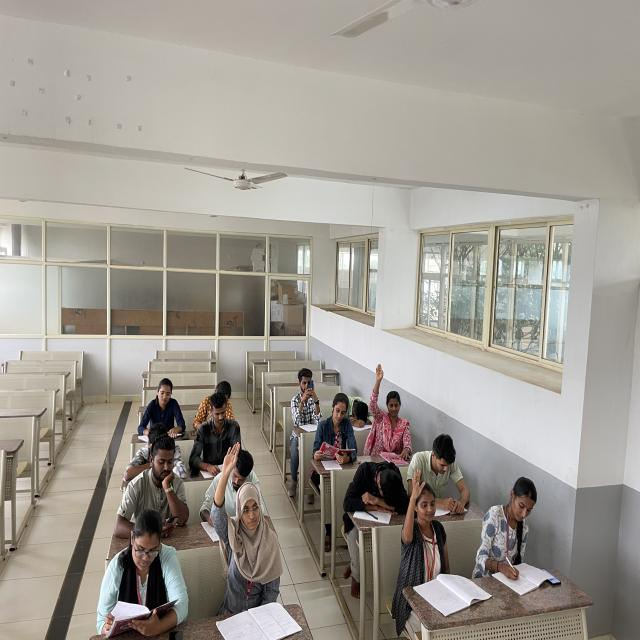Hand Rising: (208, 442, 286, 618), (400, 468, 456, 604), (368, 362, 413, 461)
Reading: (95, 506, 190, 640), (198, 443, 256, 543), (413, 433, 472, 519), (187, 391, 239, 481), (316, 389, 362, 474)
Sleeping: (342, 457, 411, 526), (346, 387, 376, 428)
Using Phone: (116, 433, 194, 537), (290, 366, 323, 440)
Writing: (474, 470, 553, 600), (138, 378, 180, 440)
